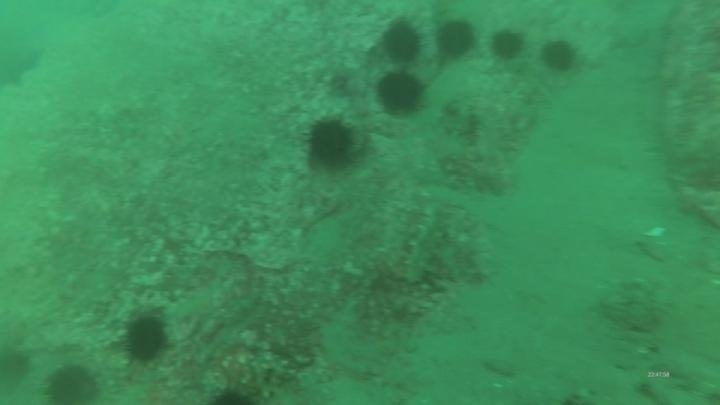echinus: (304, 114, 359, 171), (120, 312, 170, 366), (374, 69, 427, 118), (42, 362, 102, 404), (380, 18, 424, 65), (434, 18, 478, 61), (539, 37, 579, 75), (488, 27, 527, 63), (0, 345, 33, 386)
holothurian: (400, 204, 447, 287)
